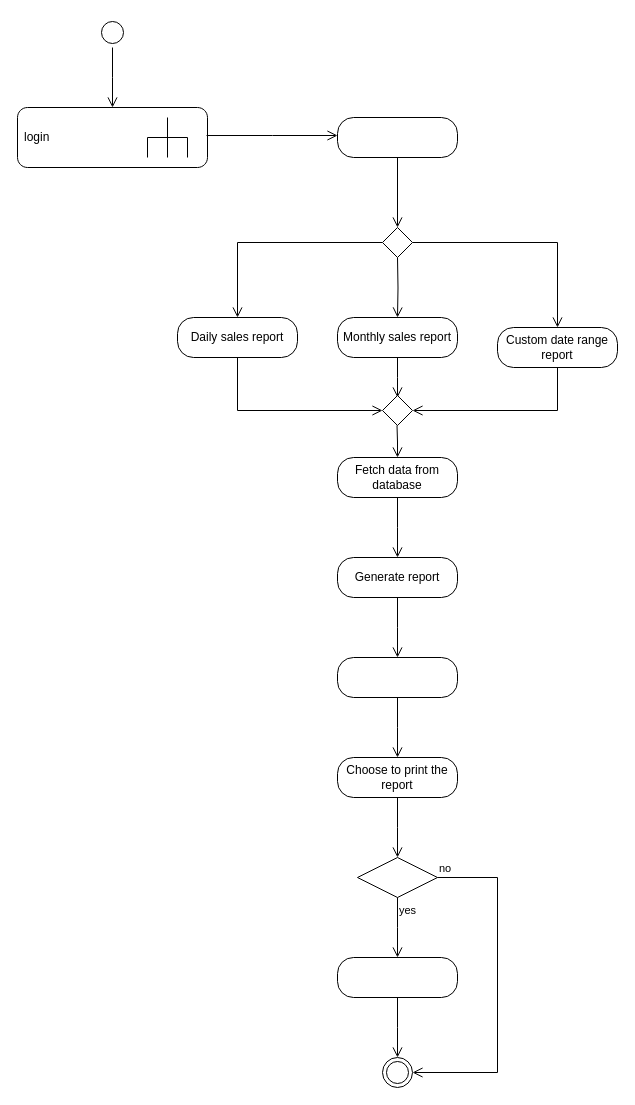
The diagram is 635 pixels wide and 1105 high, and some of its shapes have lost their labels. The box of each missing label's shape, as (x1, y1, x2, y2) in pixels:
Display report: (336, 656, 458, 698)
Print the report: (336, 956, 458, 998)
Select view sales reports option: (336, 116, 458, 158)
